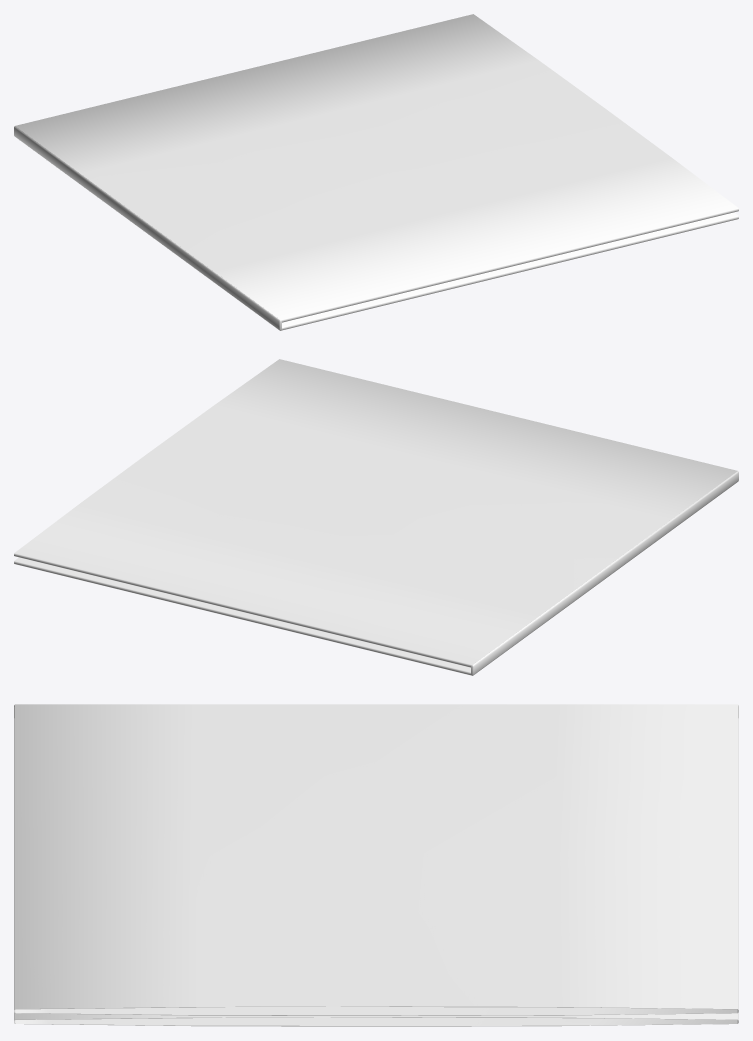
The model's file is sleeve_10_gatefold_AxisMove_re1.dae.
The picture shows the model from 3 angles, top to bottom: view 1: azimuth 30°, elevation 25°; view 2: azimuth 150°, elevation 25°; view 3: azimuth 270°, elevation 25°; orthographic projection. The views are drawn at different scales.
Visible parts, largest first — view 1: Front, Back, Spine; view 2: Front, Back, Spine; view 3: Front, Back.
Boxes of the visible parts, x1,y1,x2,y2 form: Front: [15, 14, 738, 322]; Back: [281, 212, 738, 330]; Spine: [14, 126, 281, 330]; Front: [14, 359, 737, 667]; Back: [14, 557, 471, 675]; Spine: [471, 471, 738, 675]; Front: [14, 704, 738, 1015]; Back: [14, 1013, 738, 1026].
Size of the model in its own units: 26.44 by 0.9986 by 26.51.
3 materials, 3 textured.
